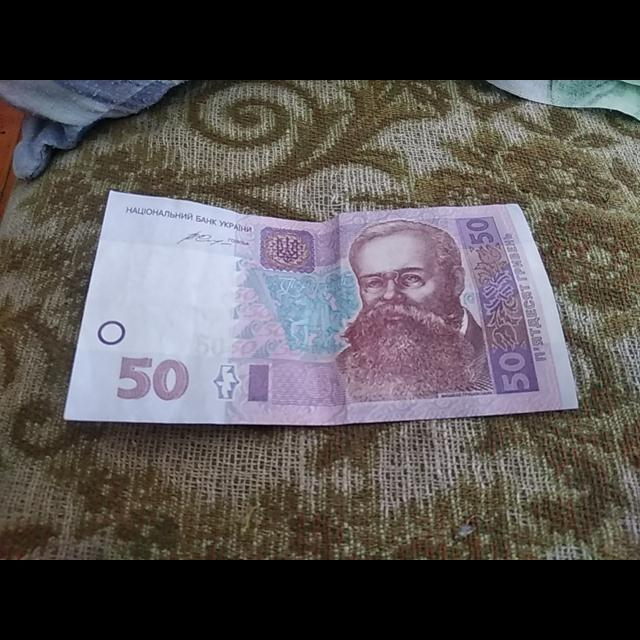50uah: (63, 190, 580, 426)
